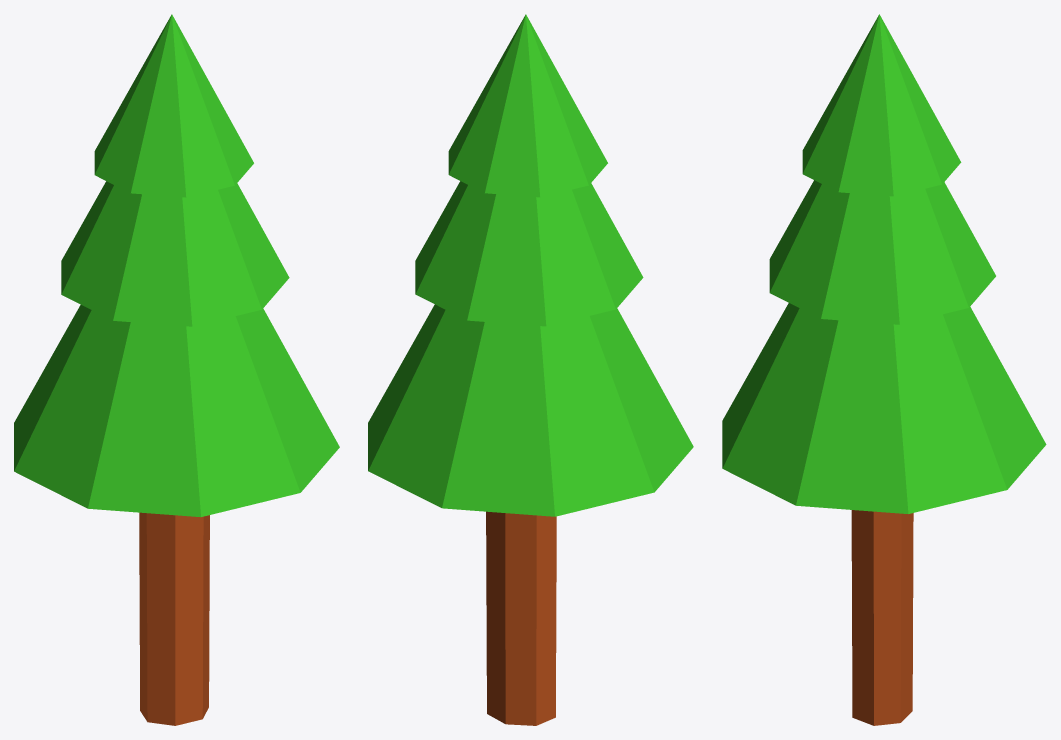
File: pinetree001.fbx
The picture shows the model from 3 angles, left to right: view 1: azimuth 30°, elevation 25°; view 2: azimuth 150°, elevation 25°; view 3: azimuth 270°, elevation 25°; orthographic projection.
Visible parts, largest first — view 1: Normal pinetree; view 2: Normal pinetree; view 3: Normal pinetree.
Part boxes in pixels (x1,y1,x2,y2): Normal pinetree: (14, 14, 339, 725); Normal pinetree: (368, 14, 693, 725); Normal pinetree: (722, 14, 1046, 725).
Bounding box in the file's own units: 727 × 1695 × 716.
